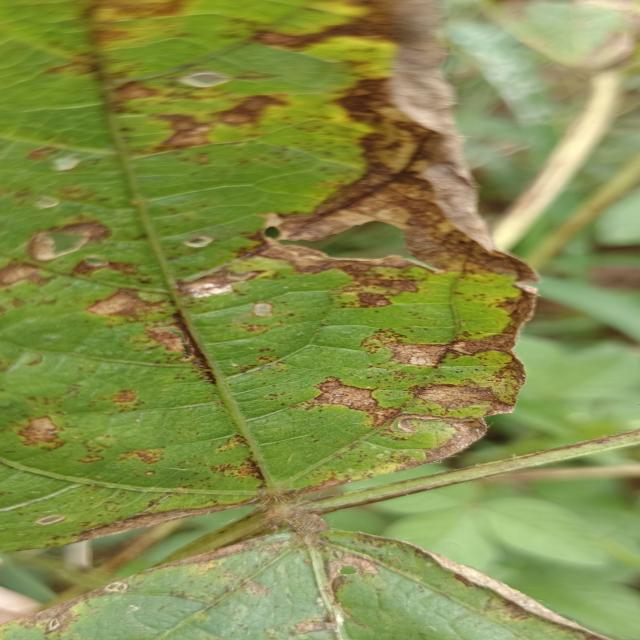Black gram_leaf spot: (0, 0, 551, 541)
